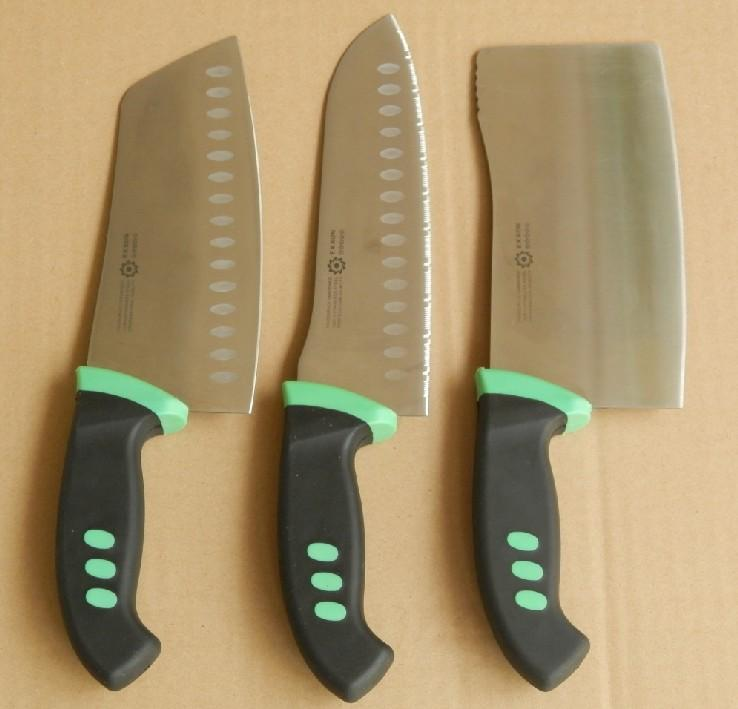knife: (35, 10, 720, 709)
